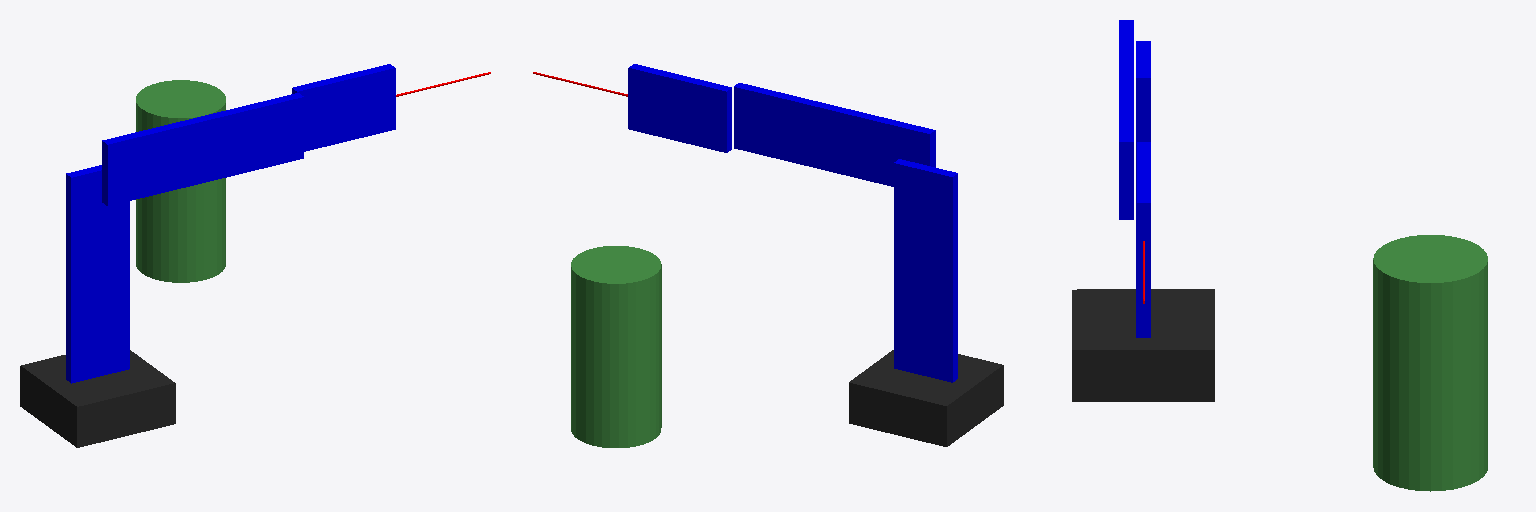
The robot description file, URDF, robot "second_bazu":
<?xml version="1.0"?>

<robot name="second_bazu">

<link name="world_link"/>

<link name="base_link">
    <inertial>
        <origin xyz="0.0 0.0 0.0" rpy="0.0 0.0 0.0"/>
        <mass value="5.0"/>
        <inertia ixx="0.024" ixy="0.0" ixz="0.0" iyy="0.024" iyz="0.0" izz="0.041"/>
    </inertial>
    <visual>
        <origin xyz="0.0 0.0 0.0" rpy="0.0 0.0 0.0"/>
        <geometry>
            <box size="0.5 0.5 0.2"/>
        </geometry>
        <material name="grey1">
            <color rgba="0.2 0.2 0.2 1.0"/>
            <texture filename=""/>
        </material>
    </visual>
    <collision>
        <origin xyz="0.0 0.0 0.0" rpy="0.0 0.0 0.0"/>
        <geometry>
            <box size="0.5 0.5 0.2"/>
        </geometry>
    </collision>
</link>

<link name="rear_arm_link">
    <inertial>
        <origin xyz="0.0 0.0 0.0" rpy="0.0 0.0 0.0"/>
        <mass value="1.0"/>
        <inertia ixx="0.090" ixy="0.0" ixz="0.0" iyy="0.0835" iyz="0.0" izz="0.0077"/>
    </inertial>
    <visual name="rear_arm_link_vis">
        <origin xyz="0 0 0.5" rpy="0.0 0.0 0.0"/>
        <geometry>
            <box size="0.05 0.3 1.0"/>
        </geometry>
        <material name="blue1">
            <color rgba="0.0 0.0 1.0 1.0"/>
        </material>
        
    </visual>
    <collision>
        <origin xyz="0 0 0.5" rpy="0.0 0.0 0.0"/>
        <geometry>
            <box size="0.05 0.3 1.0"/>
        </geometry>
    </collision>
</link>

<link name="fore_arm_link">
    <inertial>
        <origin xyz="0.0 0.0 0" rpy="0.0 0.0 0.0"/>
        <mass value="1.0"/>
        <inertia ixx="0.090" ixy="0.0" ixz="0.0" iyy="0.0835" iyz="0.0" izz="0.0077"/>
    </inertial>
    <visual>
        <origin xyz="0 0 -0.5" rpy="0.0 0.0 0.0"/>
        <geometry>
            <box size="0.05 0.3 1.0"/>
        </geometry>
        <material name="blue1">
            <color rgba="0.0 0.0 1.0 1.0"/>
        </material>
        
    </visual>
    <collision>
        <origin xyz="0 0 -0.5" rpy="0.0 0.0 0.0"/>
        <geometry>
            <box size="0.05 0.3 1.0"/>
        </geometry>
    </collision>
</link>

<link name="wrist_arm_link">
    <inertial>
        <origin xyz="0.0 0.0 0.0" rpy="0.0 0.0 0.0"/>
        <mass value="1.0"/>
        <inertia ixx="0.090" ixy="0.0" ixz="0.0" iyy="0.0210" iyz="0.0" izz="0.0077"/>
    </inertial>
    <visual>
        <origin xyz="0 0 -0.25" rpy="0.0 0.0 0.0"/>
        <geometry>
            <box size="0.05 0.3 0.5"/>
        </geometry>
        <material name="blue1">
            <color rgba="0.0 0.0 1.0 1.0"/>
        </material>
        
    </visual>
    <collision>
        <origin xyz="0 0 -0.25" rpy="0.0 0.0 0.0"/>
        <geometry>
            <box size="0.05 0.3 0.5"/>
        </geometry>
    </collision>
</link>

<link name="pointer_link">
    <inertial>
        <origin xyz="0.0 0.0 0.0" rpy="0.0 0.0 0.0"/>
        <mass value="0.0"/>
        <inertia ixx="0.0" ixy="0.0" ixz="0.0" iyy="0.0" iyz="0.0" izz="0.0"/>
    </inertial>
    <visual>
        <origin xyz="0.0 0.0 0.0" rpy="0.0 0.0 0.0"/>
        <geometry>
            <cylinder radius="0.005" length="0.5"/>
        </geometry>
        <material name="red1">
            <color rgba="1.0 0.0 0.0 1.0"/>
            <texture filename=""/>
        </material>
    </visual>
    <collision>
        <origin xyz="0.0 0.0 0.0" rpy="0.0 0.0 0.0"/>
        <geometry>
            <box size="0.0 0.0 0.0"/>
        </geometry>
    </collision>
</link>

<link name="obstacle_link">
    <inertial>
        <origin xyz="0.0 0.0 0.0" rpy="0.0 0.0 0.0"/>
        <mass value="0.0"/>
        <inertia ixx="0.0" ixy="0.0" ixz="0.0" iyy="0.0" iyz="0.0" izz="0.0"/>
    </inertial>
    <visual>
        <origin xyz="0.0 0.0 0.0" rpy="0.0 0.0 0.0"/>
        <geometry>
            <cylinder radius='0.2' length='0.8'/>
        </geometry>
        <material name="my_color">
            <color rgba="0.3 0.6 0.3 0.2"/>
            <texture filename=""/>
        </material>
    </visual>
    <collision>
        <origin xyz="0.0 0.0 0.0" rpy="0.0 0.0 0.0"/>
        <geometry>
            <box size="0.0 0.0 0.0"/>
        </geometry>
    </collision>
</link>

<joint name="world_base_joint" type="fixed">
    <parent link="world_link"/>
    <child link="base_link"/>
    <origin xyz="0.0 0.0 0.0" rpy="0.0 0.0 -1.57"/>
</joint>


<joint name="base_rear_arm_joint" type="continuous">
    <parent link="base_link"/>
    <child link="rear_arm_link"/>
    <axis xyz="0 0 1"/>
    <origin xyz="0 0 0.1" rpy="0 0 0"/>
</joint>

<joint name="rear_arm_fore_arm_joint" type="continuous">
    <parent link="rear_arm_link"/>
    <child link="fore_arm_link"/>
    <axis xyz="1 0 0"/>
    <origin xyz="0.06 0 1.0" rpy="1.57 0 0"/>
</joint>

<joint name="fore_arm_wrist_arm_joint" type="continuous">
    <parent link="fore_arm_link"/>
    <child link="wrist_arm_link"/>
    <axis xyz="1 0 0"/>
    <origin xyz="-0.06 0 -1.0" rpy="0.0 0 0"/>
</joint>

<joint name="wrist_arm_pointer_joint" type="fixed">
    <parent link="wrist_arm_link"/>
    <child link="pointer_link"/>
    <origin xyz="0.0 0 -0.75" rpy="0.0 0.0 0.0"/>
</joint>

<joint name="world_obstacle_joint" type="fixed">
    <parent link="world_link"/>
    <child link="obstacle_link"/>
    <origin xyz="1.0 1.0 .40" rpy="0.0 0.0 0.0"/>
</joint>

<!-- ===============================Gazebo Shiz======================================== -->
<!-- 
<transmission name="trans_1">
    <type>transmission_interface/SimpleTransmission</type>
    <joint name="base_rear_arm_joint">
        <hardwareInterface>hardware_interface/PositionJointInterface</hardwareInterface>
    </joint>
    <actuator name="motor_1">
        <mechanicalReduction>1.0</mechanicalReduction>
        <hardwareInterface>hardware_interface/PositionJointInterface</hardwareInterface>
    </actuator>
</transmission>

<transmission name="trans_2">
    <type>transmission_interface/SimpleTransmission</type>
    <joint name="rear_arm_fore_arm_joint">
        <hardwareInterface>hardware_interface/PositionJointInterface</hardwareInterface>
    </joint>
    <actuator name="motor_2">
        <mechanicalReduction>1.0</mechanicalReduction>
        <hardwareInterface>hardware_interface/PositionJointInterface</hardwareInterface>
    </actuator>
</transmission>

<transmission name="trans_3">
    <type>transmission_interface/SimpleTransmission</type>
    <joint name="fore_arm_wrist_arm_joint">
        <hardwareInterface>hardware_interface/PositionJointInterface</hardwareInterface>
    </joint>
    <actuator name="motor_3">
        <mechanicalReduction>1.0</mechanicalReduction>
        <hardwareInterface>hardware_interface/PositionJointInterface</hardwareInterface>
    </actuator>
</transmission>

<gazebo>
    <plugin name="gazebo_ros_control" filename="libgazebo_ros_control.so"/> 
</gazebo>

<gazebo reference = "base_link">
    <material>Gazebo/Black</material>
</gazebo>
    
<gazebo reference = "rear_arm_link">
    <material>Gazebo/Orange</material>
</gazebo>

<gazebo reference = "fore_arm_link">
    <material>Gazebo/Blue</material>
</gazebo>

<gazebo reference = "wrist_arm_link">
    <material>Gazebo/Red</material>
</gazebo> -->

</robot>

--- What the picture shows (computed from the rendered views, not written in the file) ---
Views: 3 orthographic renders of the robot side by side, from view 1: azimuth 30°, elevation 25°; view 2: azimuth 150°, elevation 25°; view 3: azimuth 270°, elevation 25°.
Robot: second_bazu — 7 links, 6 joints (3 continuous, 3 fixed); root link world_link; default pose: all joints at 0.
Visible links, largest first — view 1: fore_arm_link, rear_arm_link, obstacle_link, base_link, wrist_arm_link; view 2: obstacle_link, rear_arm_link, fore_arm_link, base_link, wrist_arm_link; view 3: obstacle_link, base_link, fore_arm_link, rear_arm_link, wrist_arm_link.
Boxes of the visible links, x1,y1,x2,y2 form: fore_arm_link: (102, 93, 303, 205); rear_arm_link: (66, 165, 129, 383); obstacle_link: (136, 80, 225, 282); base_link: (20, 350, 175, 447); wrist_arm_link: (292, 64, 395, 151); obstacle_link: (571, 246, 661, 447); rear_arm_link: (894, 159, 957, 382); fore_arm_link: (734, 83, 935, 186); base_link: (849, 350, 1003, 446); wrist_arm_link: (628, 64, 731, 152); obstacle_link: (1373, 235, 1487, 491); base_link: (1072, 289, 1214, 401); fore_arm_link: (1119, 20, 1133, 219); rear_arm_link: (1136, 41, 1150, 337); wrist_arm_link: (1137, 142, 1150, 280).
Size in the robot's own frame: 2.25 by 1.45 by 1.35 metres.
Geometry: primitives only (box / cylinder / sphere), no mesh files.